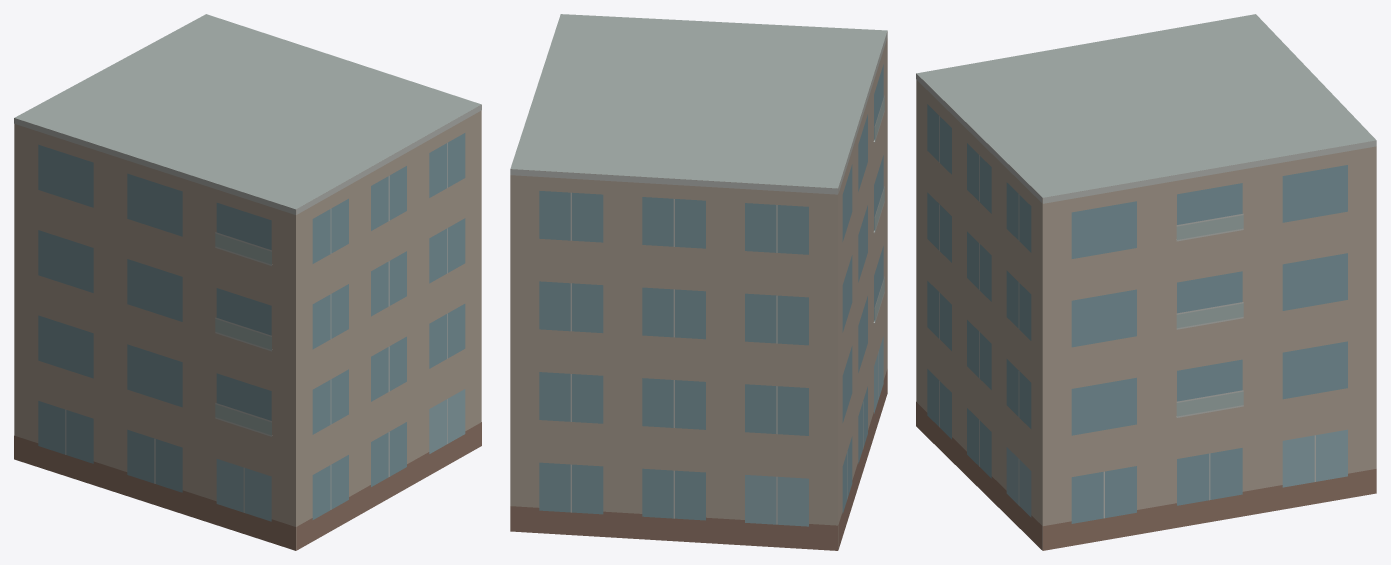
Rendered from survey-upis-32780653.glb.
The picture shows the model from 3 angles, left to right: view 1: azimuth 30°, elevation 25°; view 2: azimuth 150°, elevation 25°; view 3: azimuth 270°, elevation 25°; orthographic projection. The views are drawn at different scales.
Visible parts, largest first — view 1: survey-upis-32780653.tmp; view 2: survey-upis-32780653.tmp; view 3: survey-upis-32780653.tmp.
Boxes of the visible parts, x1,y1,x2,y2 form: survey-upis-32780653.tmp: (14, 14, 481, 550); survey-upis-32780653.tmp: (510, 14, 887, 550); survey-upis-32780653.tmp: (916, 14, 1376, 550).
Bounding box in the file's own units: 16.06 × 14.37 × 17.
